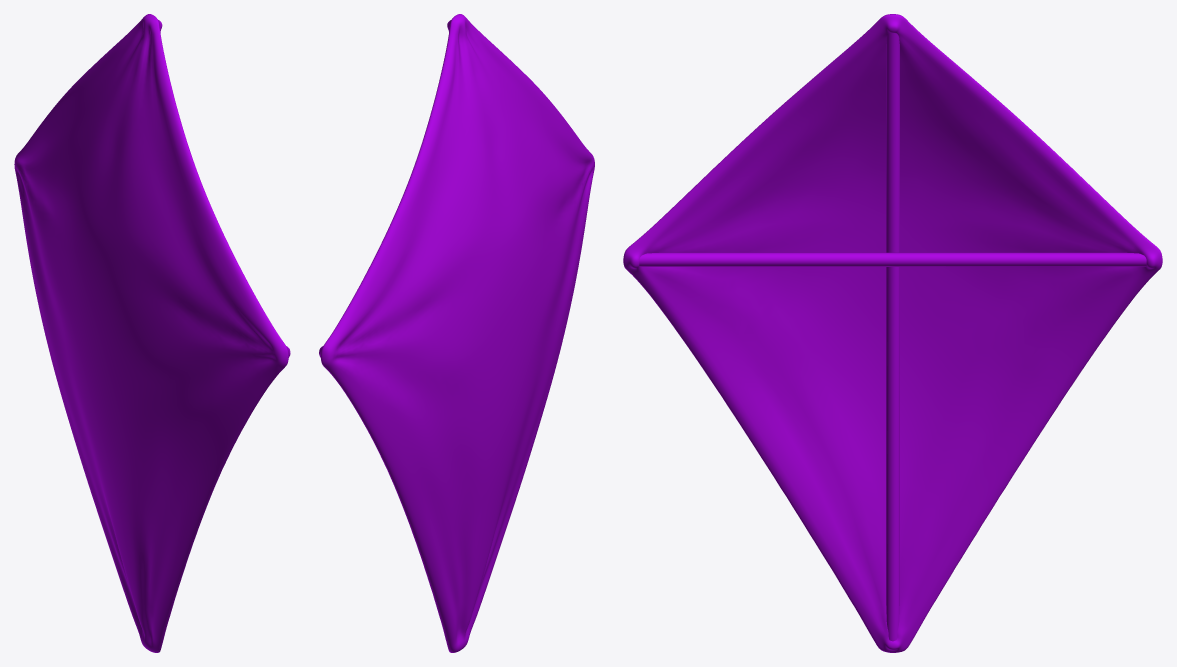
The model's file is kite.gltf.
The picture shows the model from 3 angles, left to right: view 1: azimuth 30°, elevation 25°; view 2: azimuth 150°, elevation 25°; view 3: azimuth 270°, elevation 25°; orthographic projection.
Parts seen in each view (by area): view 1: 19275_Diamond_Kite_v1; view 2: 19275_Diamond_Kite_v1; view 3: 19275_Diamond_Kite_v1.
Boxes of the visible parts, x1,y1,x2,y2 form: 19275_Diamond_Kite_v1: [14, 14, 290, 652]; 19275_Diamond_Kite_v1: [319, 14, 594, 652]; 19275_Diamond_Kite_v1: [623, 14, 1162, 652].
Bounding box in the file's own units: 0.5432 × 5 × 3.83.
